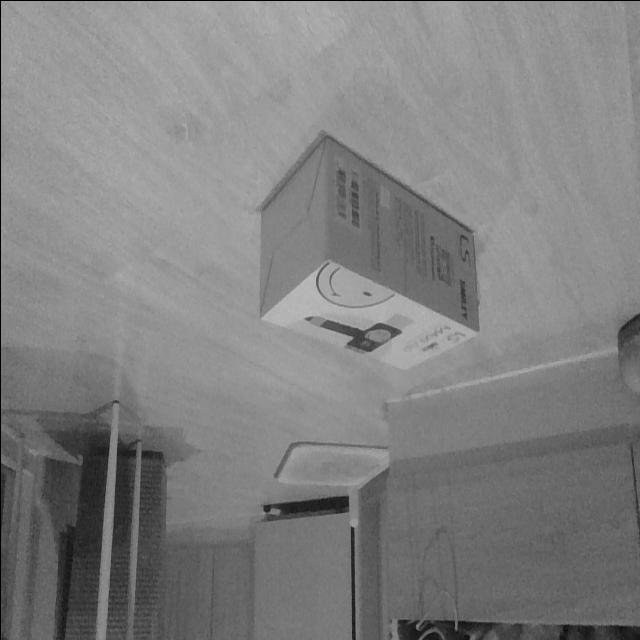Dryer: (255, 133, 480, 374)
